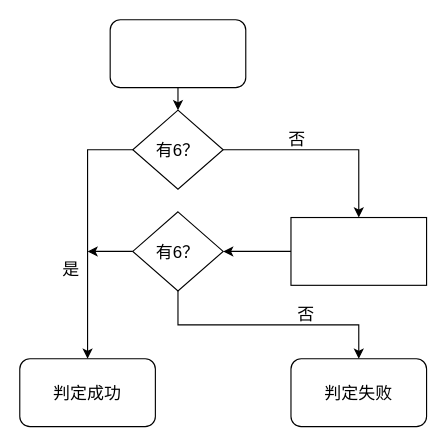
Image size: 446x446. Some labels were removed from this diagram. The centre of each missing label's shape, as x and y in pixels:
"第1次掷骰子" goes at [177,53].
"重掷" goes at [358,250].
